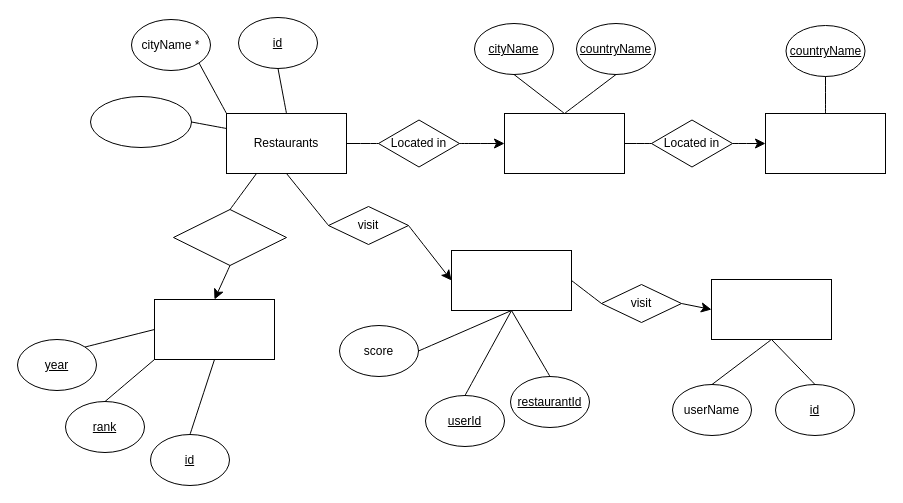
Some shapes in this 903 by 503 pixel diagram are drawn without their labels. The shapes that lost their labels are listed below. From the top down, each one's centre as x and y in pixels, then its label:
point (141, 122): restaurant Name *
point (564, 143): Cities
point (825, 143): Countries
point (229, 237): Rated rank of
point (511, 280): Visits
point (214, 329): Ranks
point (771, 309): Users
